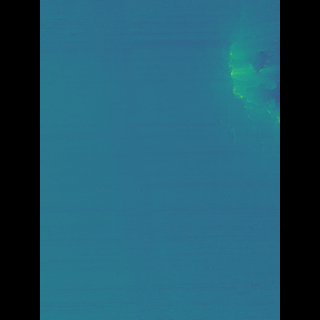Loch: (167, 14, 250, 151)
